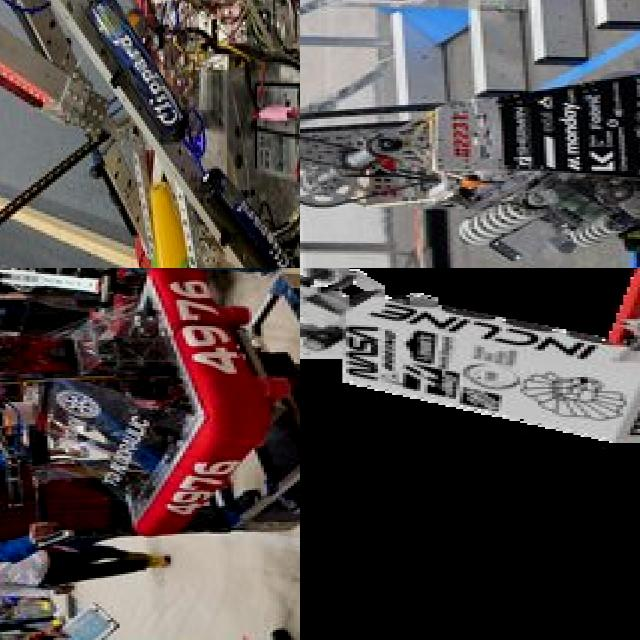FRC-Robots: (300, 268, 640, 528), (300, 16, 640, 268), (0, 0, 300, 268), (0, 268, 300, 533)
